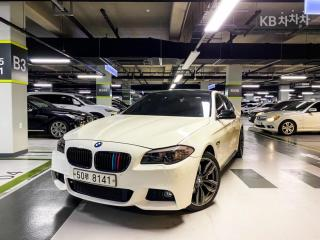0: (80, 171, 84, 179)
1: (97, 174, 102, 184), (107, 176, 112, 185)
4: (101, 175, 107, 184)
5: (76, 170, 80, 179)
8: (92, 173, 97, 183)
plate: (69, 166, 119, 192)
루: (84, 172, 89, 181)
